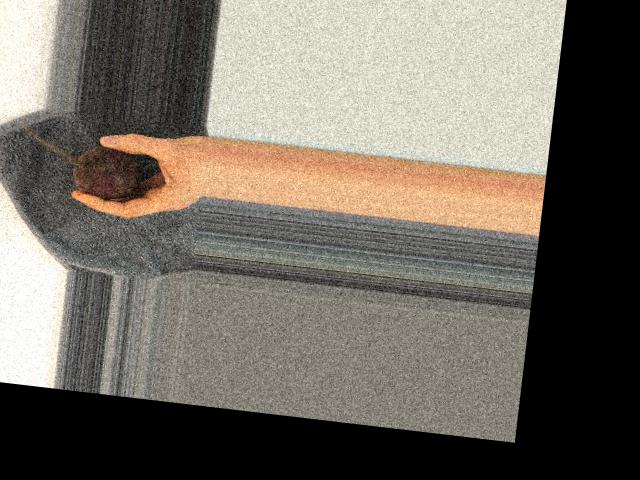beet: (71, 143, 141, 202)
